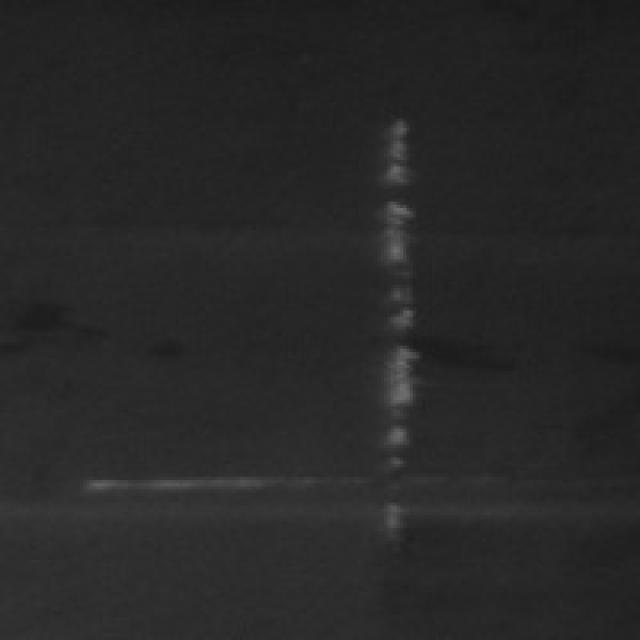scratches: (372, 115, 422, 538), (45, 452, 352, 502)
